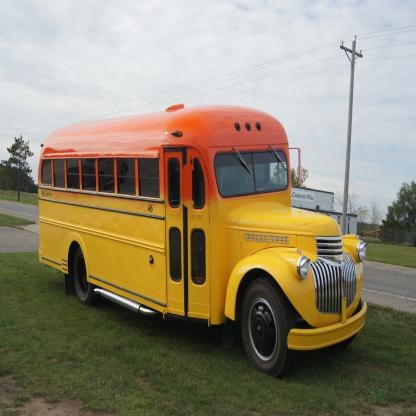Bus: (38, 104, 366, 374)
